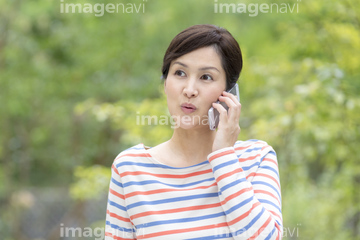phone: (208, 86, 244, 128)
talk: (164, 58, 249, 149)
